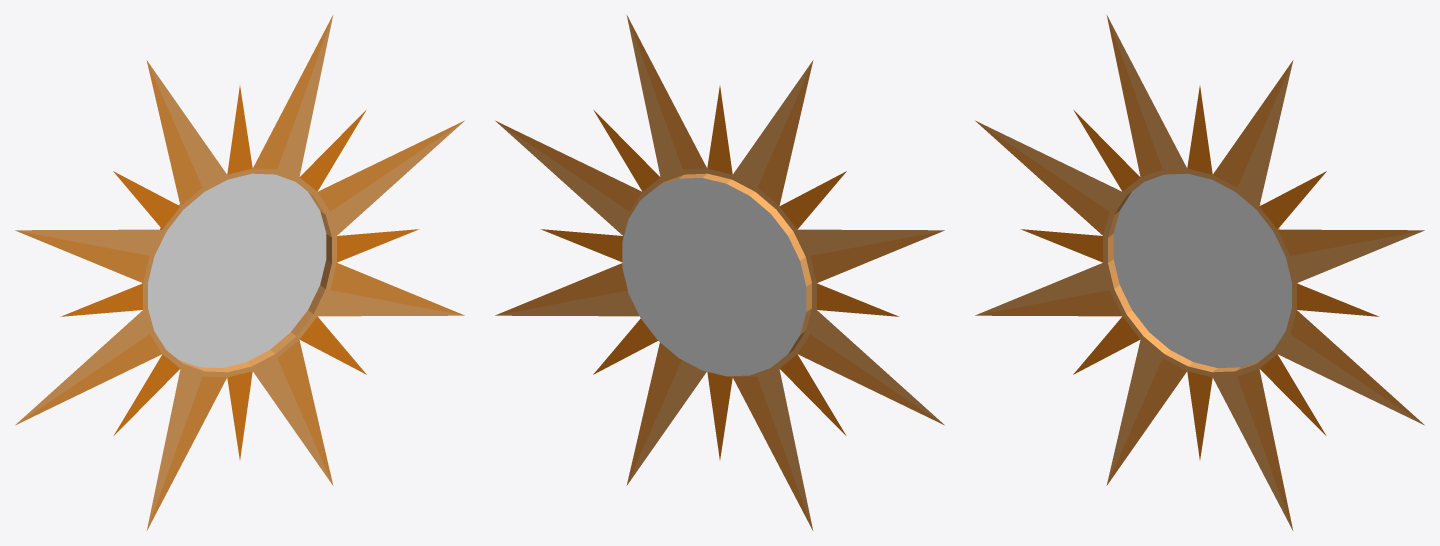
File: sun_clock.fbx
3 renders of one model, left to right at view 1: azimuth 30°, elevation 25°; view 2: azimuth 150°, elevation 25°; view 3: azimuth 330°, elevation 25°, orthographic.
Visible parts, largest first — view 1: Circle; view 2: Circle; view 3: Circle.
Part boxes in pixels (x1,y1,x2,y2): Circle: [15, 15, 464, 530]; Circle: [495, 15, 944, 530]; Circle: [975, 15, 1424, 530].
Size of the model in its own units: 462 by 462 by 10.
